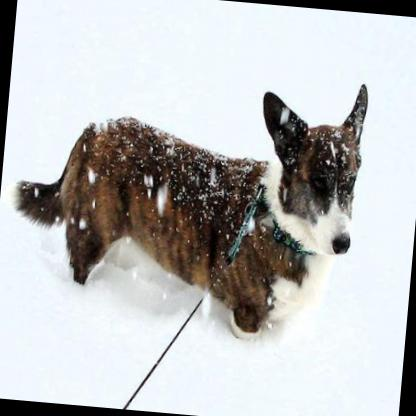Cardigan: (0, 48, 370, 348)
